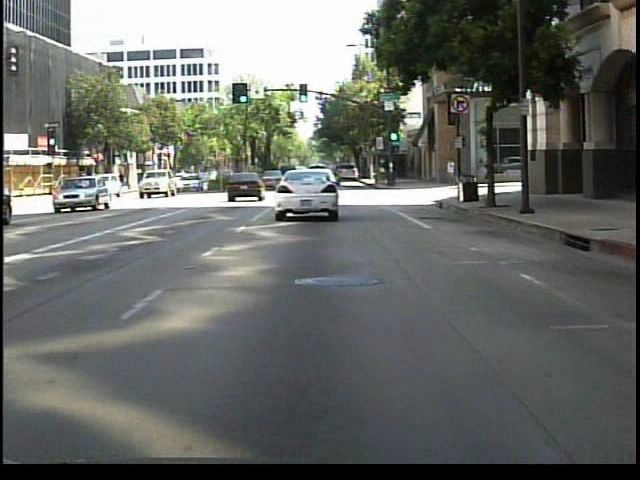person: (443, 152, 459, 192)
